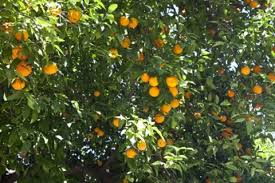orange: (43, 61, 58, 79), (166, 74, 178, 87)
